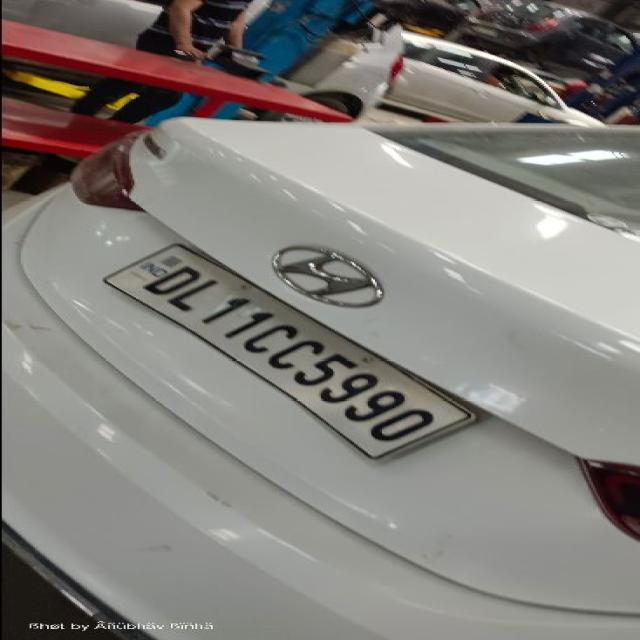license_plate: (4, 119, 636, 637), (100, 240, 480, 460)
